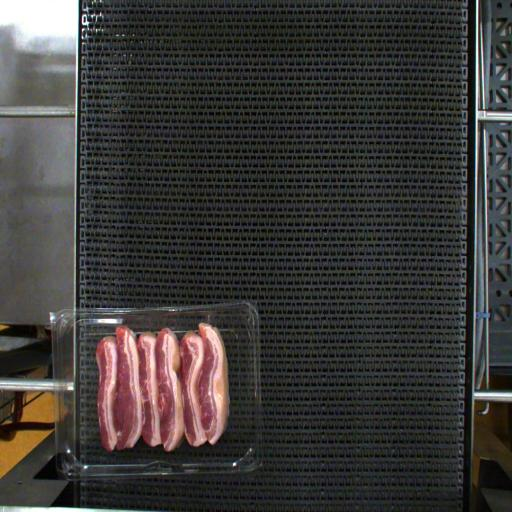packaging-error: (199, 310, 215, 324)
